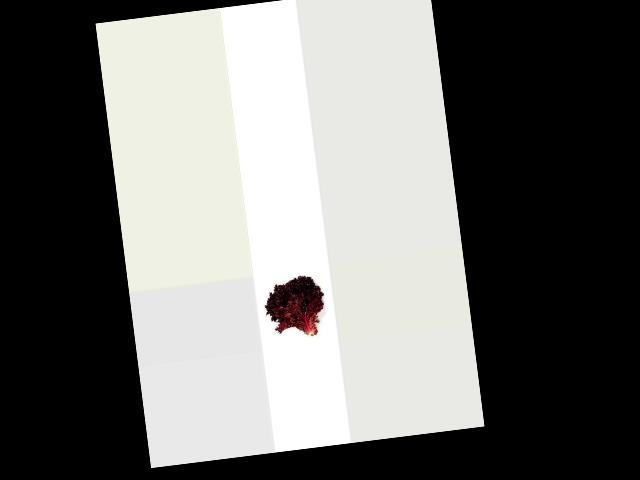lettuce: (260, 270, 326, 347)
